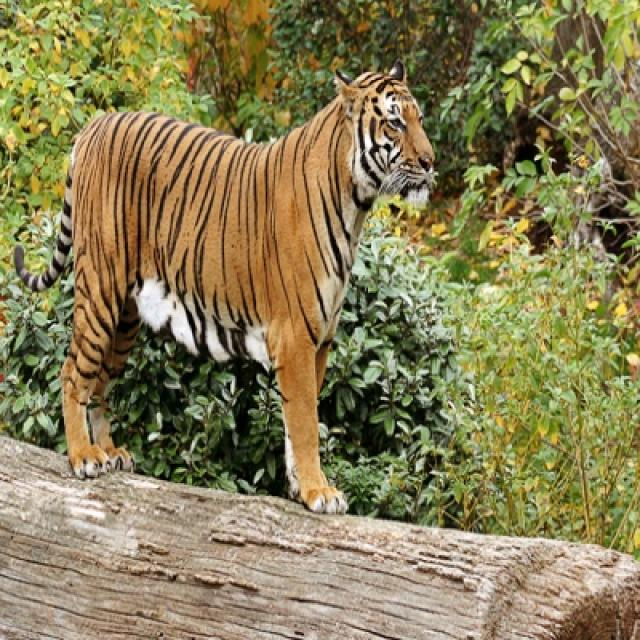Tiger: (14, 65, 437, 515)
